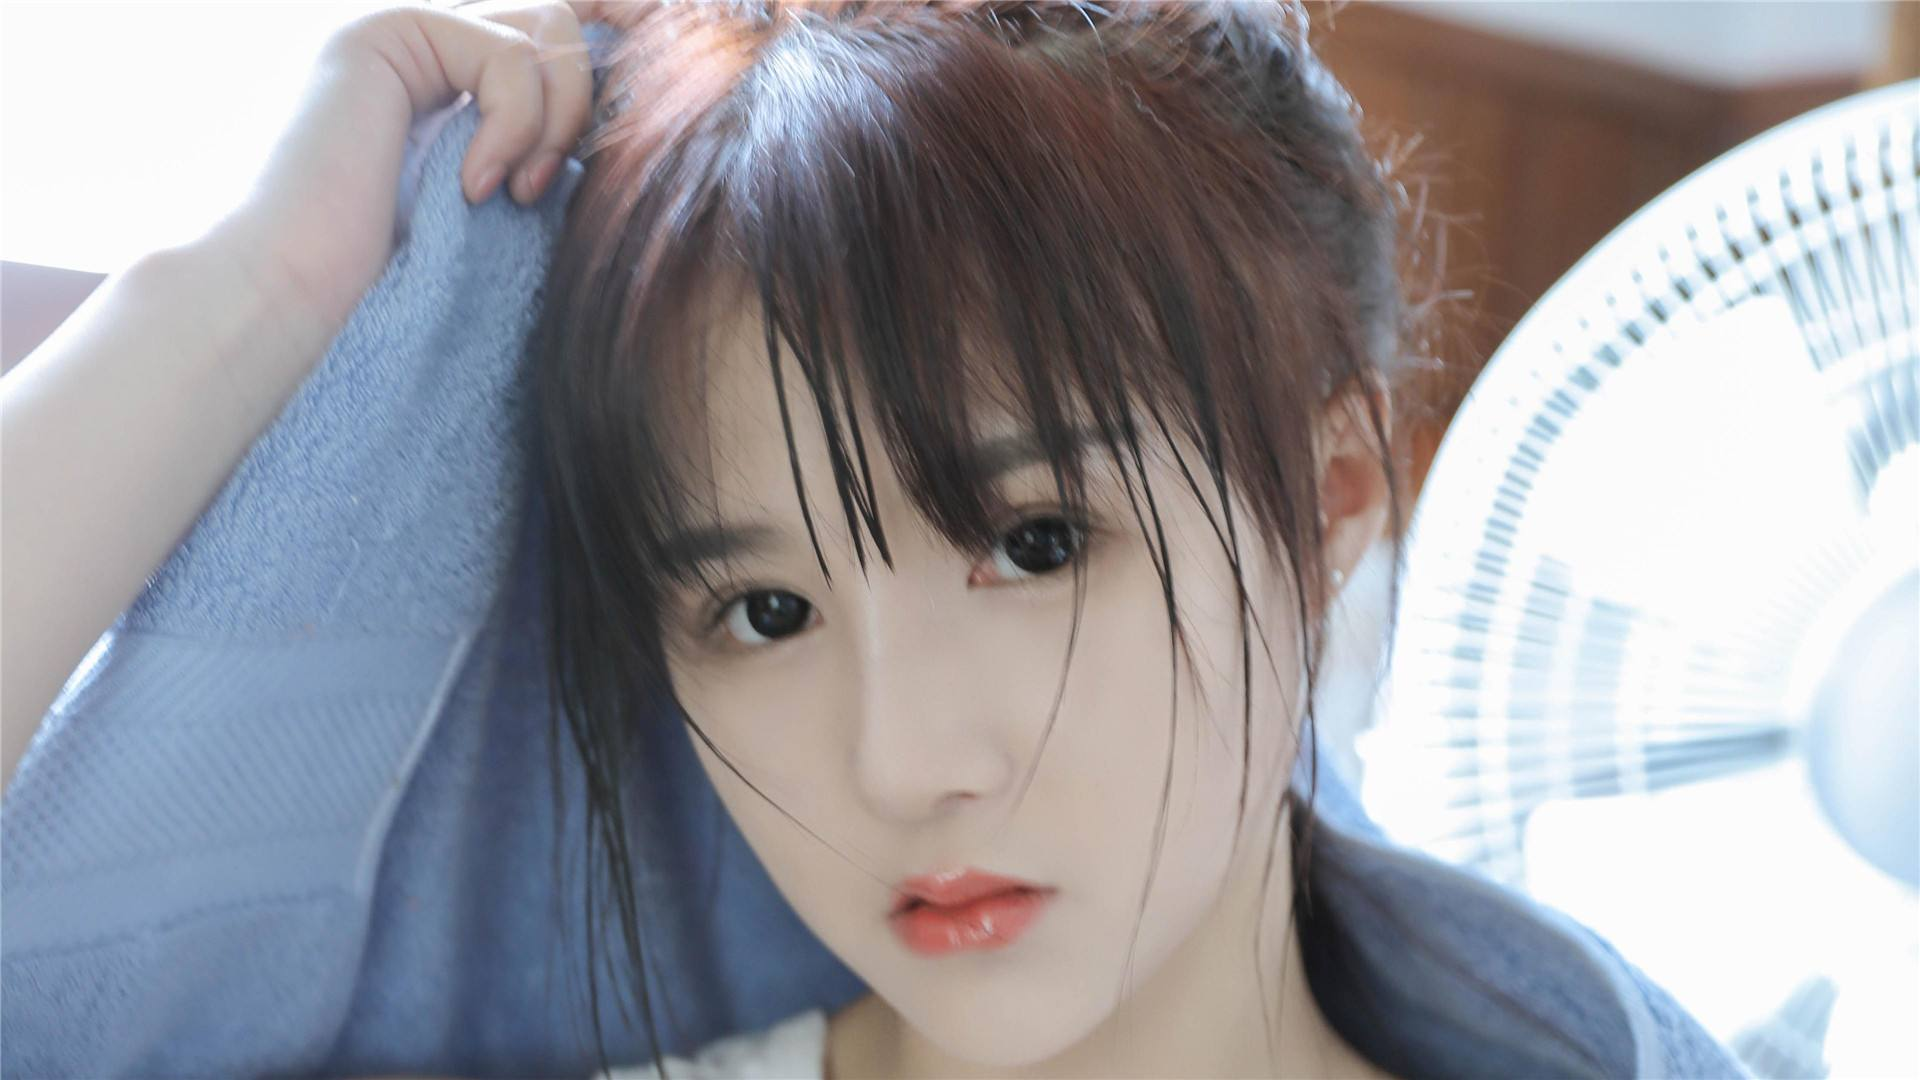person: (475, 31, 1575, 1032)
